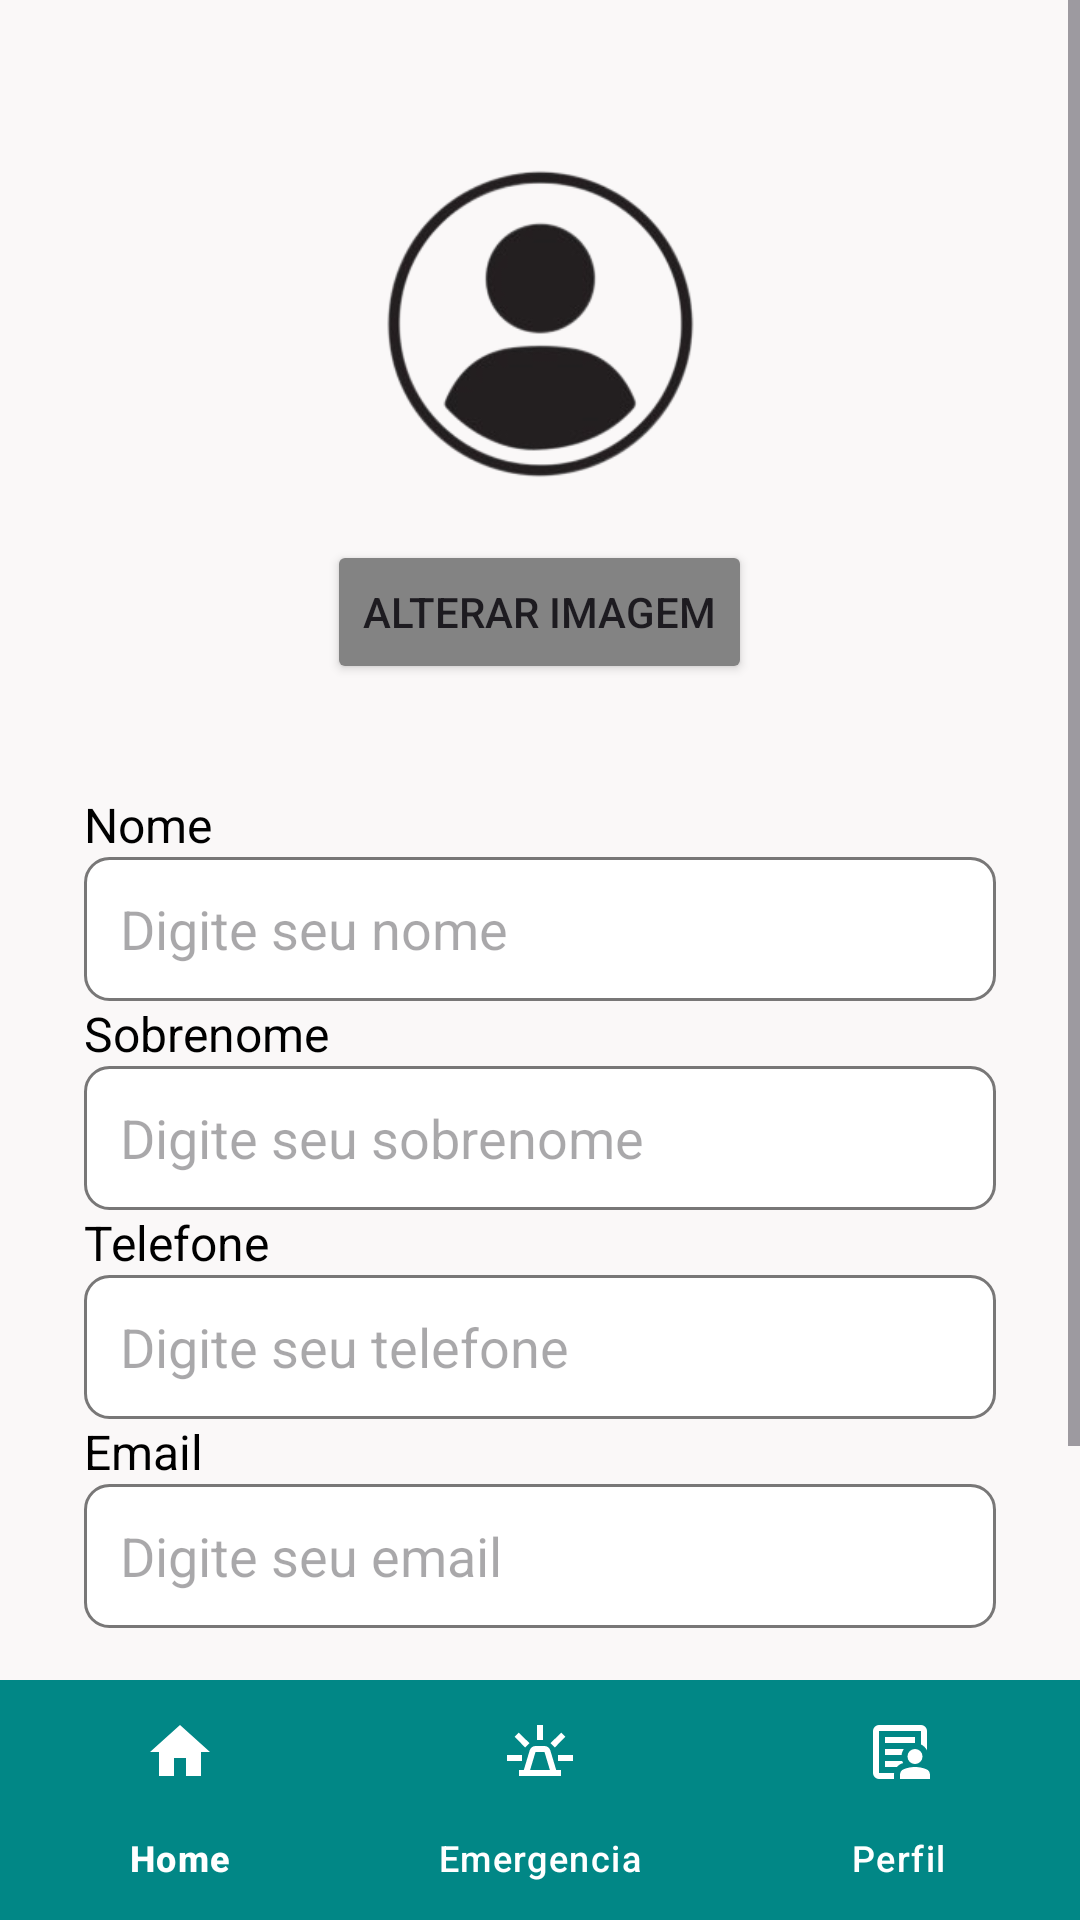

Point at icon controls on the screen. Image size 1080x1920, points as [x,y].
imagem usuario: [540,324]
